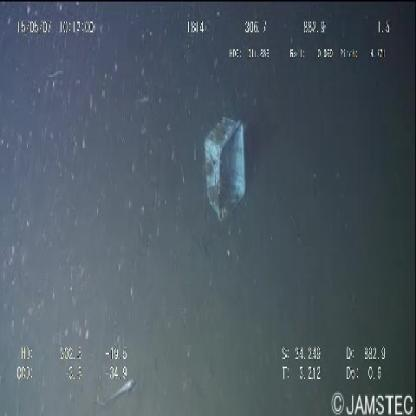Rác: (196, 102, 256, 231)
